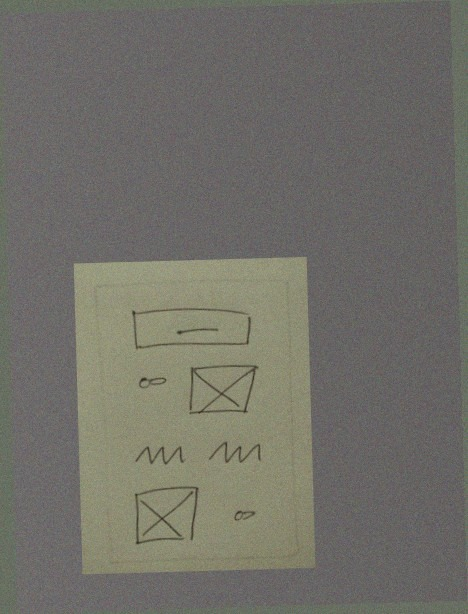button: (126, 300, 259, 354)
image: (127, 481, 202, 548), (181, 361, 265, 418)
switch: (134, 369, 174, 396), (227, 504, 259, 525)
text: (204, 433, 266, 468), (130, 439, 191, 469)
